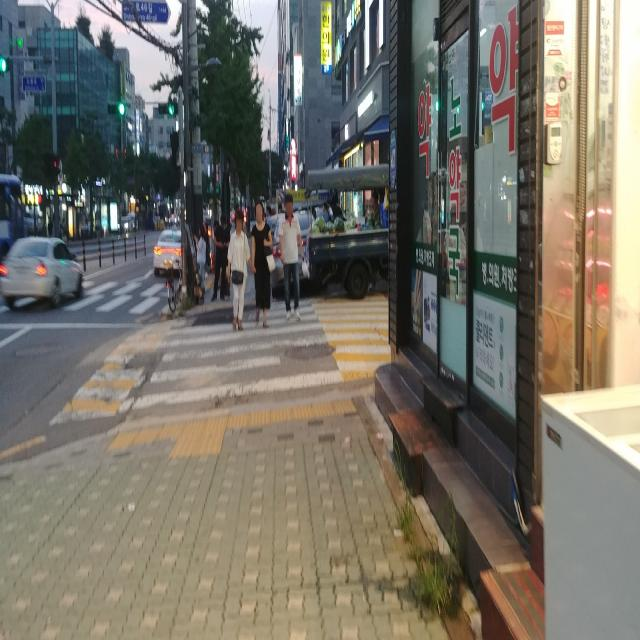횡단보도: (132, 300, 344, 410), (2, 280, 193, 310)
